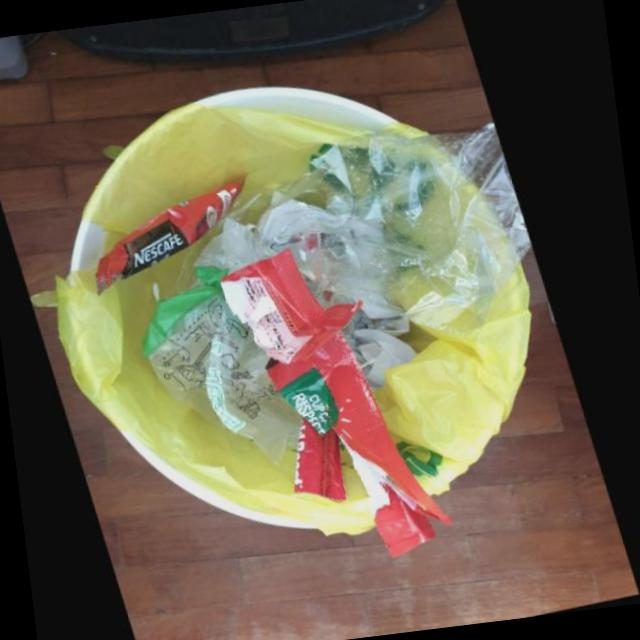goi_nhua_nho: (221, 241, 454, 556), (101, 180, 251, 294)
tui_ni_long: (231, 120, 537, 342), (142, 265, 303, 467)
